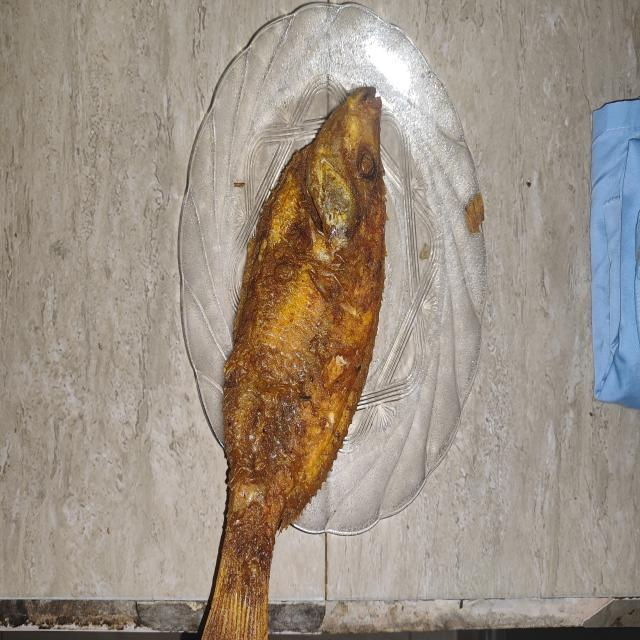ikan_mujair: (201, 86, 387, 640)
